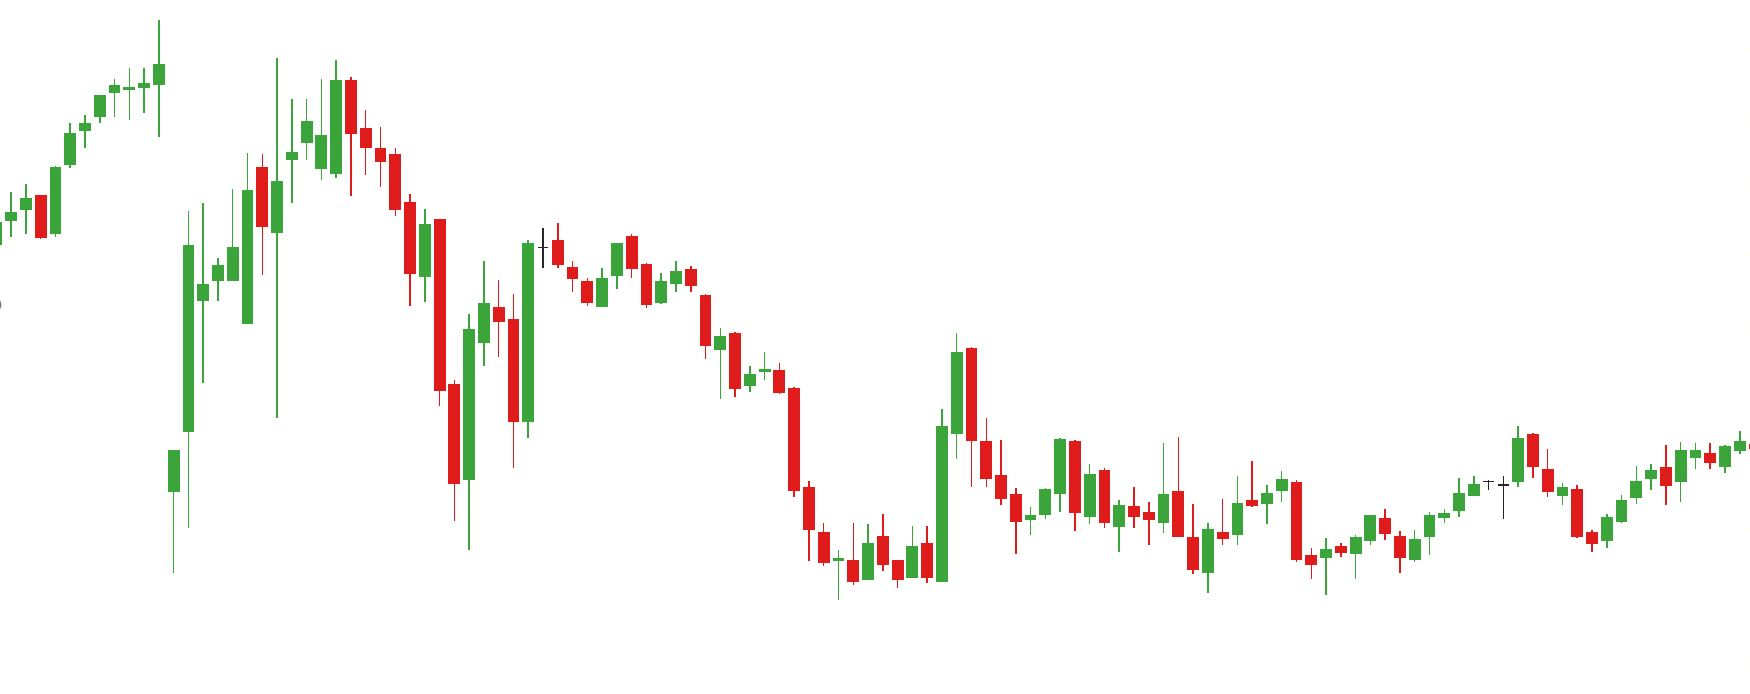sell: (754, 335, 983, 499)
